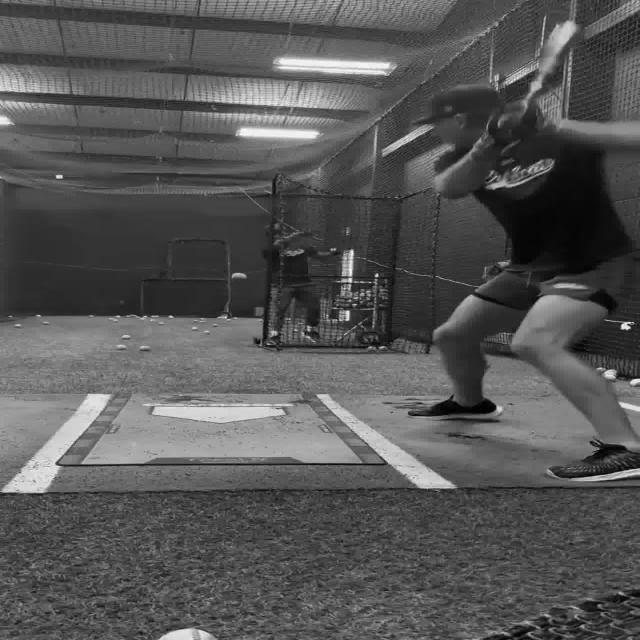base: (148, 403, 290, 422)
baseball: (158, 628, 218, 640), (601, 369, 617, 381), (231, 272, 247, 279), (628, 378, 640, 387), (115, 344, 126, 350), (377, 346, 387, 351), (596, 367, 606, 372), (366, 346, 376, 351), (139, 346, 150, 350), (120, 335, 130, 339), (203, 330, 210, 334), (14, 324, 22, 327), (212, 323, 218, 327), (35, 314, 41, 317), (192, 327, 198, 330), (42, 322, 50, 324), (88, 315, 94, 317)
bat: (514, 13, 574, 104)
shoe: (544, 438, 639, 482), (406, 394, 504, 421)
